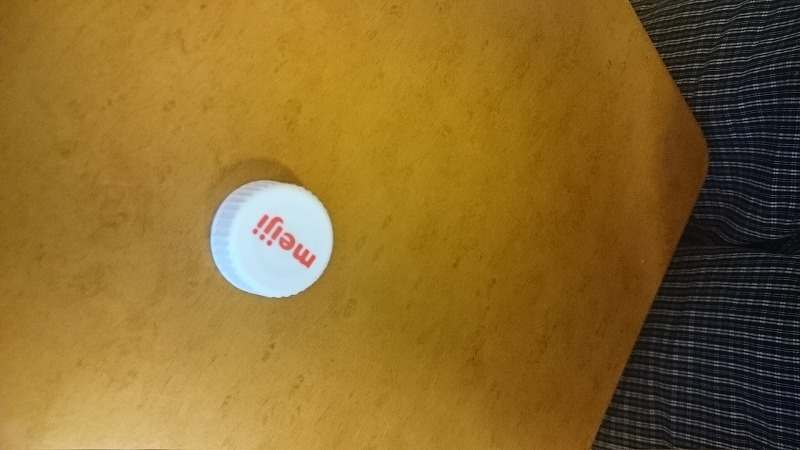B: (199, 165, 357, 308)
